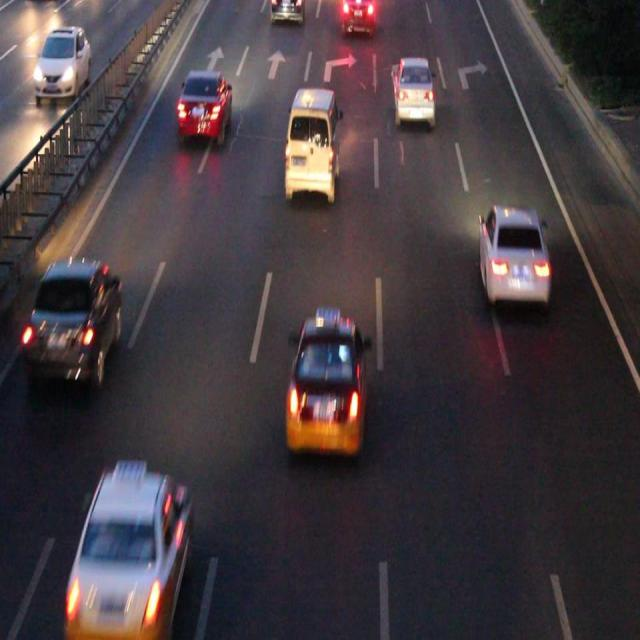car: (71, 471, 190, 631), (26, 259, 121, 382), (287, 320, 364, 453), (478, 205, 548, 302), (178, 72, 232, 140), (393, 60, 433, 124), (340, 1, 374, 32), (270, 1, 304, 22)
truck: (286, 88, 339, 198)
